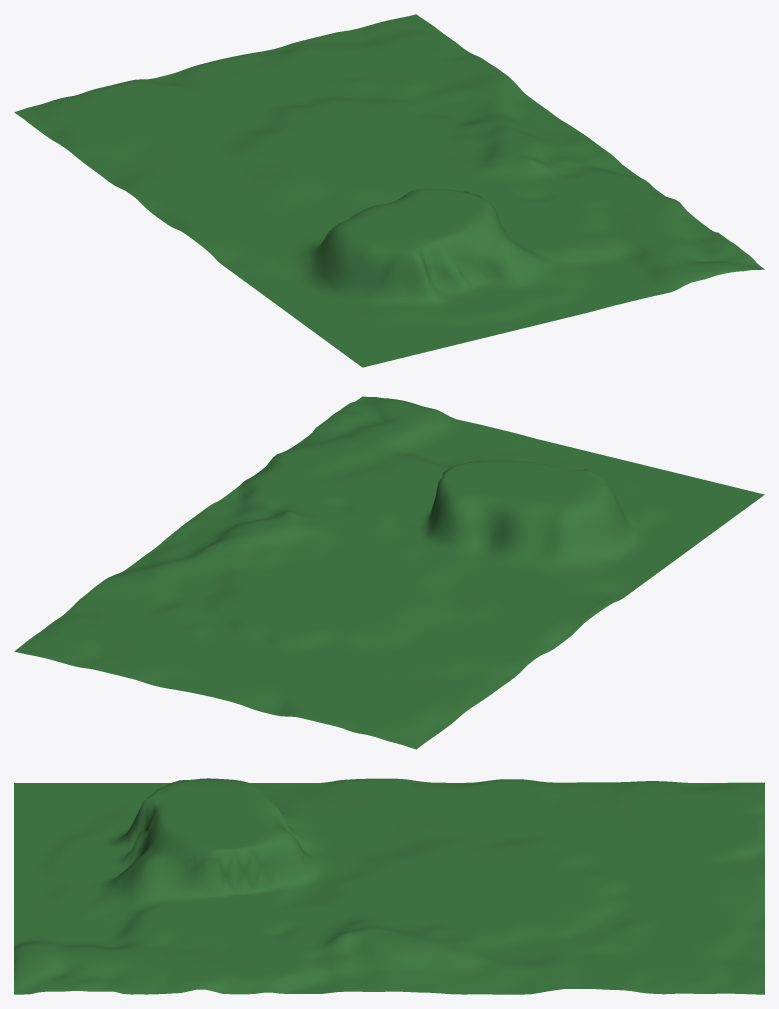
File: hub_color (1).fbx
3 views of the same model, one above another, from view 1: azimuth 30°, elevation 25°; view 2: azimuth 150°, elevation 25°; view 3: azimuth 270°, elevation 25° (orthographic). The views are drawn at different scales.
Parts seen in each view (by area): view 1: Landscape_0; view 2: Landscape_0; view 3: Landscape_0.
Part boxes in pixels (x1,y1,x2,y2): Landscape_0: (14, 14, 764, 367); Landscape_0: (14, 396, 764, 749); Landscape_0: (14, 778, 764, 994).
Size of the model in its own units: 6000 by 628 by 9000.
